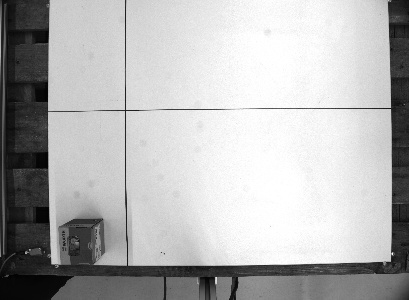b7: (56, 215, 108, 267)
